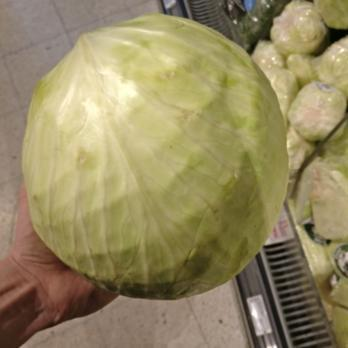Cabbage: (16, 12, 288, 300)
